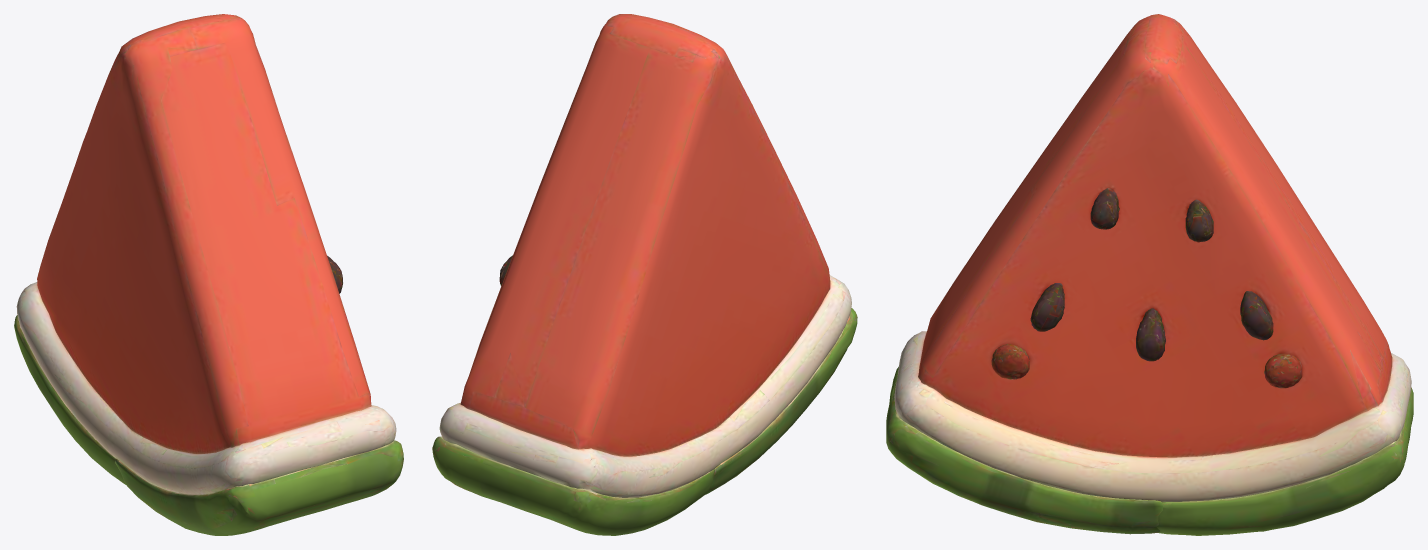
File: watermelon_slice.glb
3 views of the same model, side by side, from view 1: azimuth 30°, elevation 25°; view 2: azimuth 150°, elevation 25°; view 3: azimuth 270°, elevation 25° (orthographic). The views are drawn at different scales.
Parts seen in each view (by area): view 1: tripo_node_6ebc1710-9ee7-45aa-ad4f-b932a8c435ff; view 2: tripo_node_6ebc1710-9ee7-45aa-ad4f-b932a8c435ff; view 3: tripo_node_6ebc1710-9ee7-45aa-ad4f-b932a8c435ff.
Boxes of the visible parts, x1,y1,x2,y2 form: tripo_node_6ebc1710-9ee7-45aa-ad4f-b932a8c435ff: (14,14,403,535); tripo_node_6ebc1710-9ee7-45aa-ad4f-b932a8c435ff: (432,14,857,535); tripo_node_6ebc1710-9ee7-45aa-ad4f-b932a8c435ff: (886,14,1413,535).
Bounding box in the file's own units: 0.4316 × 0.9824 × 0.998.
1 material, 1 textured.
